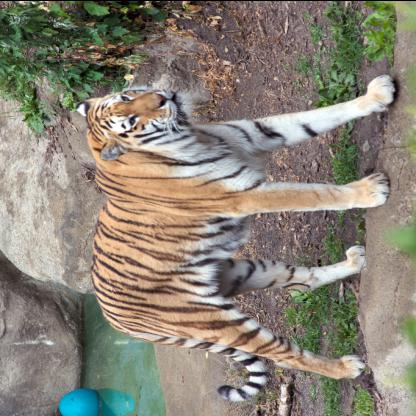tiger: (75, 87, 192, 162)
